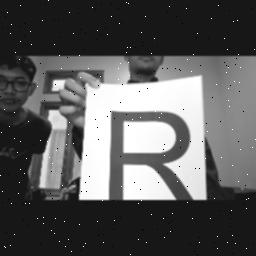r: (100, 100, 198, 200)
